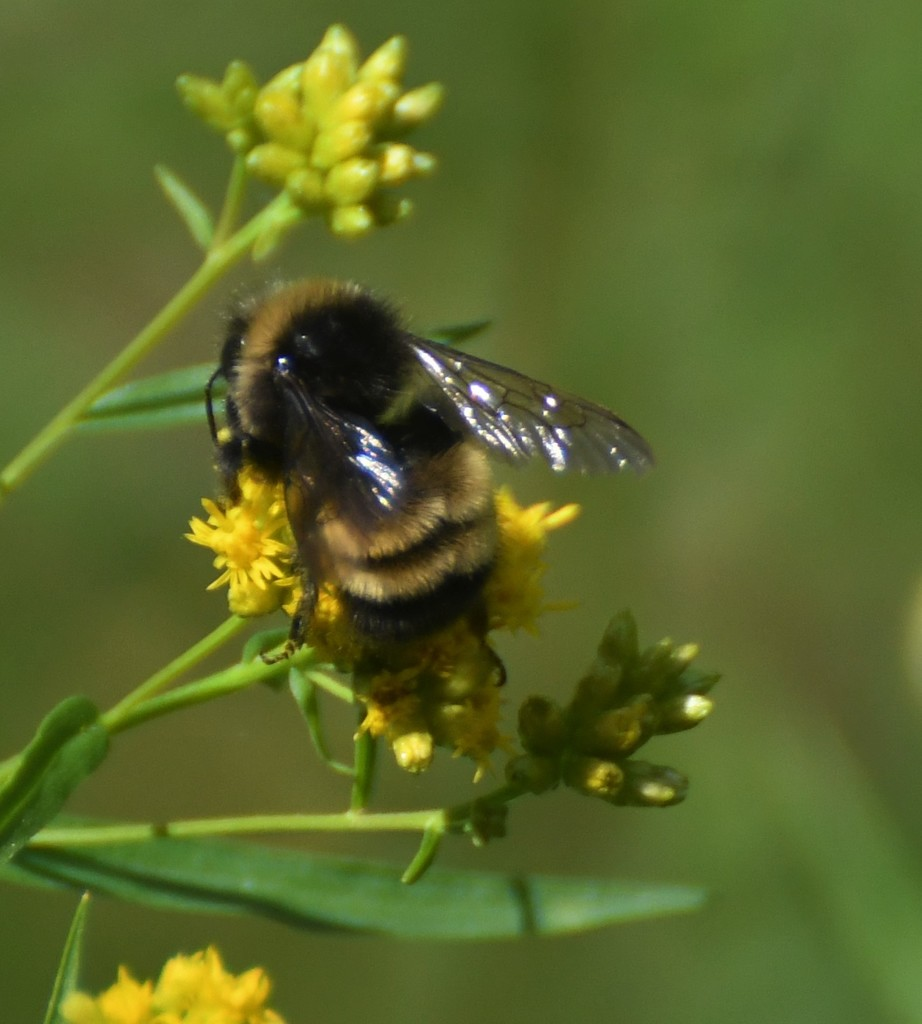bumblebee: (205, 277, 655, 762)
